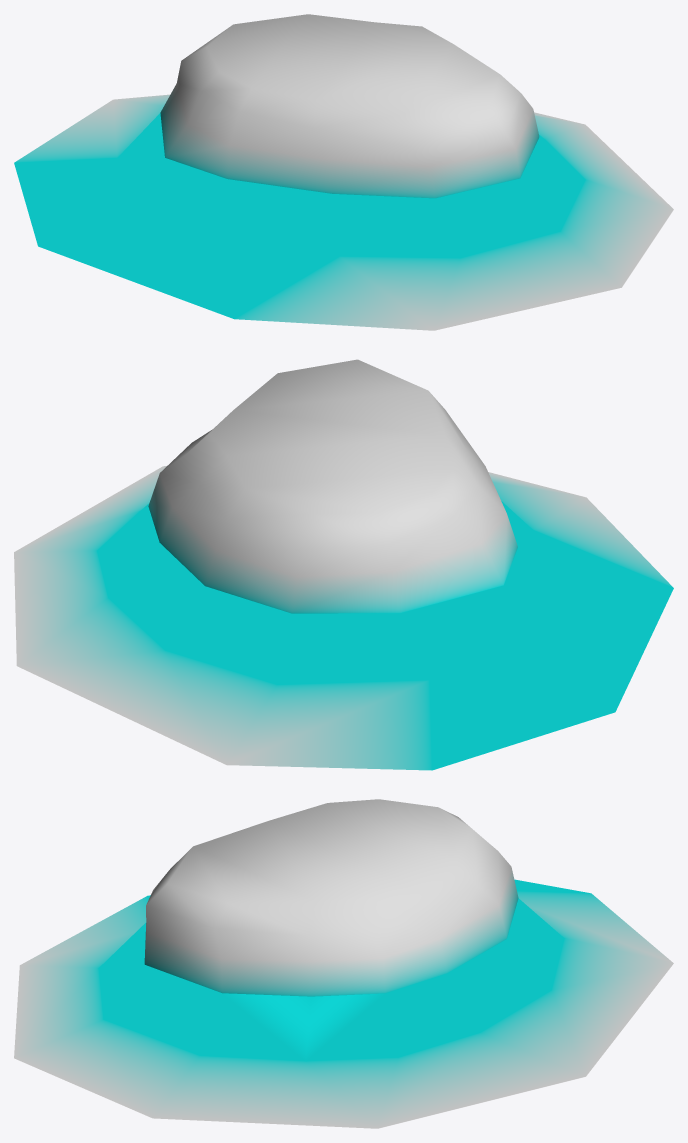
The model's file is Side-forest-water_island_01.glb.
The picture shows the model from 3 angles, top to bottom: view 1: azimuth 30°, elevation 25°; view 2: azimuth 150°, elevation 25°; view 3: azimuth 270°, elevation 25°; orthographic projection. The views are drawn at different scales.
Visible parts, largest first — view 1: Side-forest-water_island_01; view 2: Side-forest-water_island_01; view 3: Side-forest-water_island_01.
Boxes of the visible parts, <box> form: Side-forest-water_island_01: <box>14,14,673,330</box>; Side-forest-water_island_01: <box>14,359,673,770</box>; Side-forest-water_island_01: <box>14,799,673,1128</box>.
Bounding box in the file's own units: 19.37 × 4.89 × 20.05.
